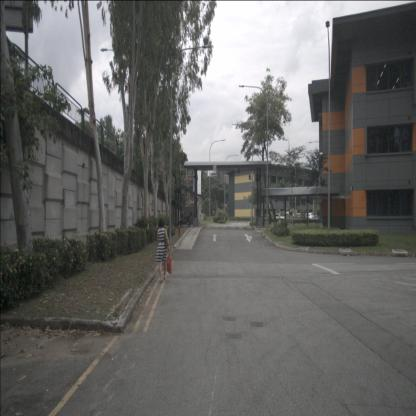human-pedestrian-adult: (155, 217, 172, 283)
vehicle-car: (270, 213, 286, 222), (291, 213, 305, 222), (302, 213, 316, 222), (282, 211, 292, 220)
vehicle-motorcycle: (178, 209, 192, 227)
